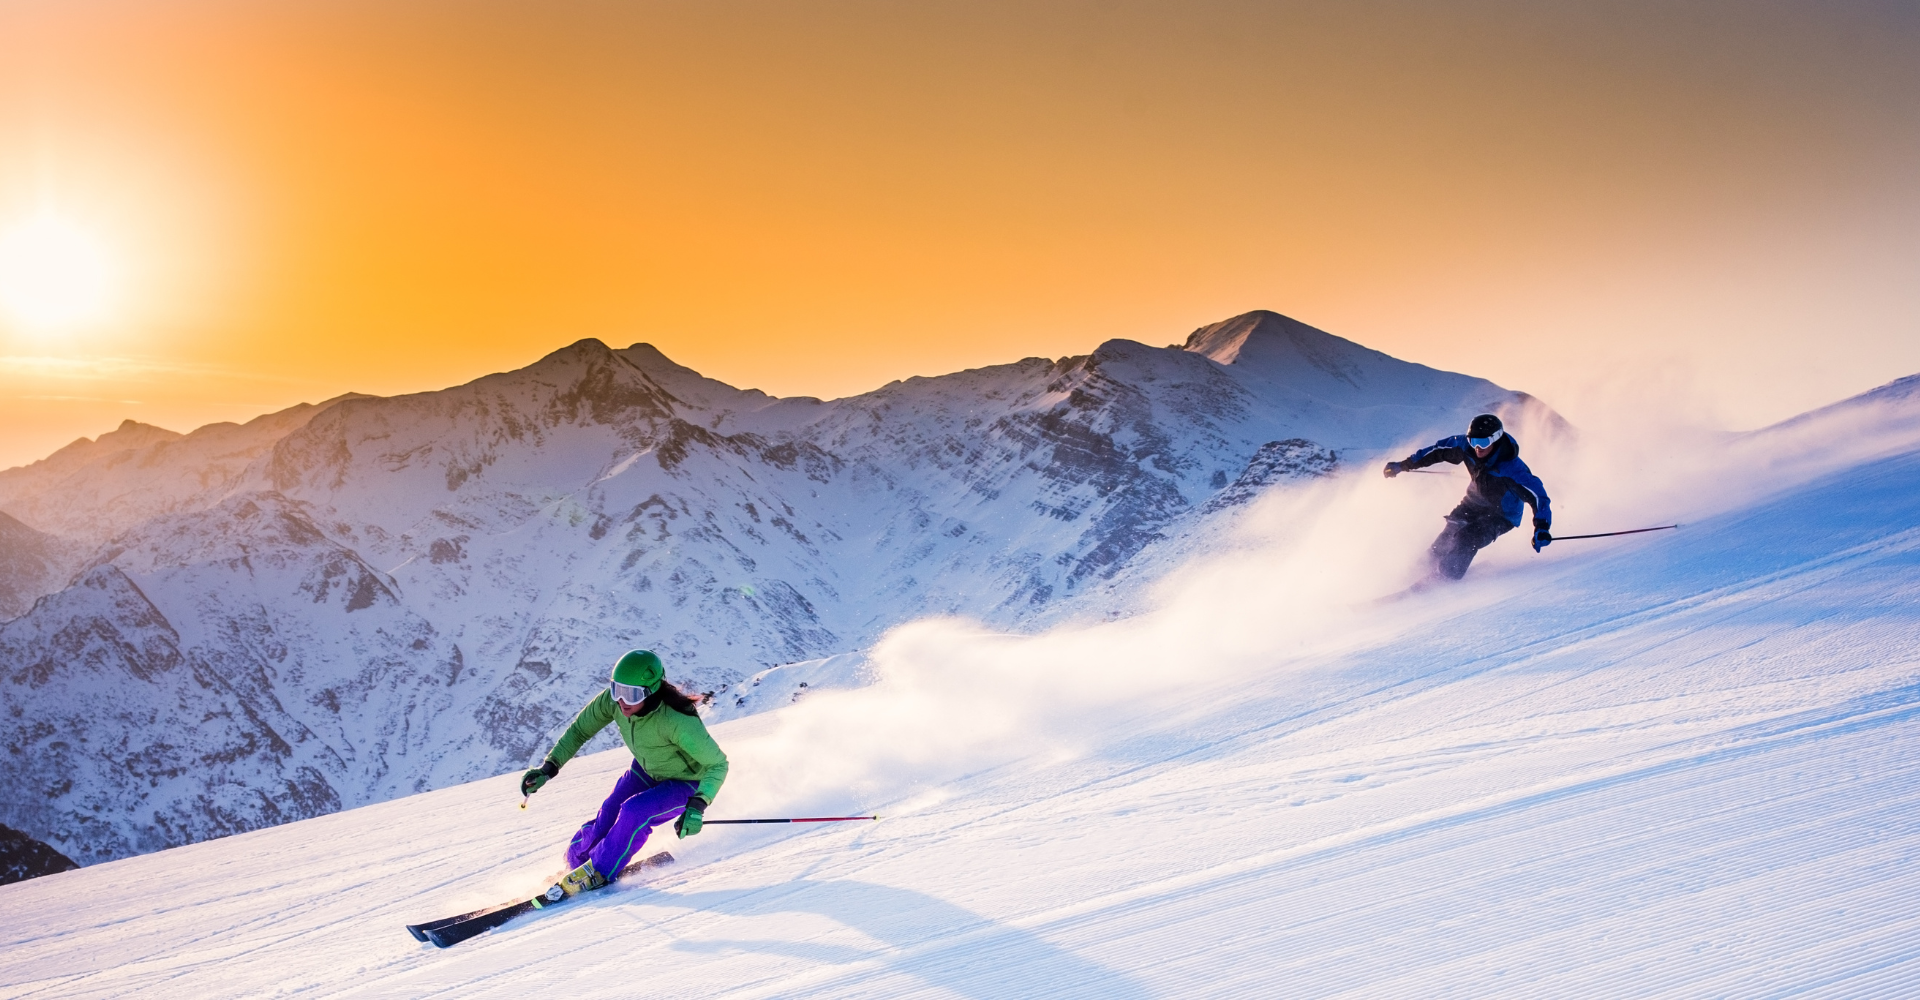skier: (404, 651, 880, 954), (1379, 415, 1683, 600)
